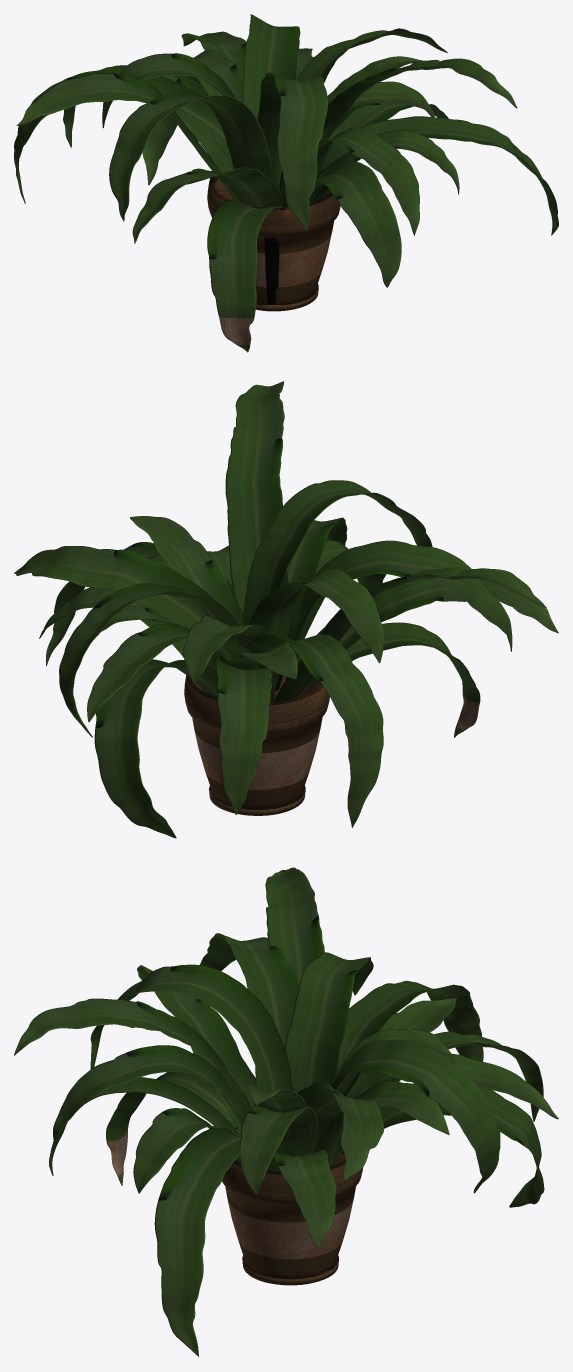
Rendered from PlantitasEve2.gltf.
3 views of the same model, one above another, from view 1: azimuth 30°, elevation 25°; view 2: azimuth 150°, elevation 25°; view 3: azimuth 270°, elevation 25° (orthographic). The views are drawn at different scales.
Parts seen in each view (by area): view 1: Plant house N150321.002; view 2: Plant house N150321.002; view 3: Plant house N150321.002.
Boxes of the visible parts, bbox=[...] form: Plant house N150321.002: bbox=[14, 14, 558, 352]; Plant house N150321.002: bbox=[14, 381, 558, 838]; Plant house N150321.002: bbox=[14, 867, 558, 1356].
Size of what is drawn, in the model's own units: 0.92 by 0.4911 by 0.7978.
3 materials, 3 textured.
